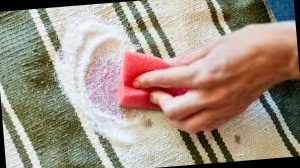wine: (90, 60, 128, 106)
